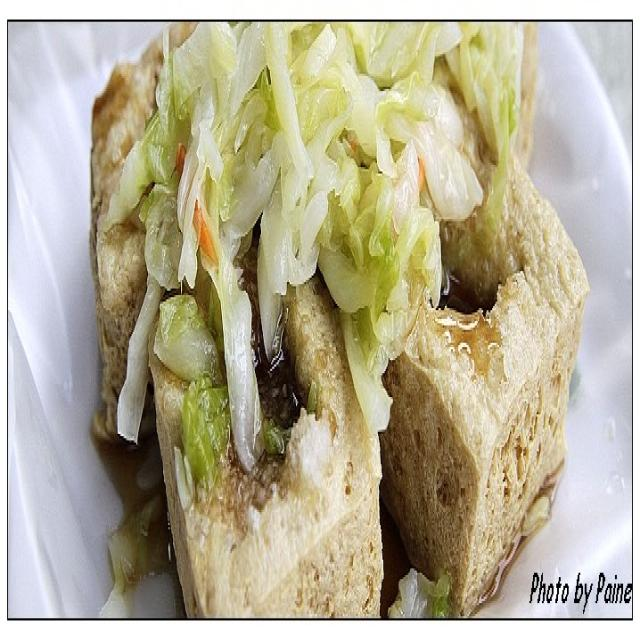豆腐料理: (44, 28, 608, 614)
